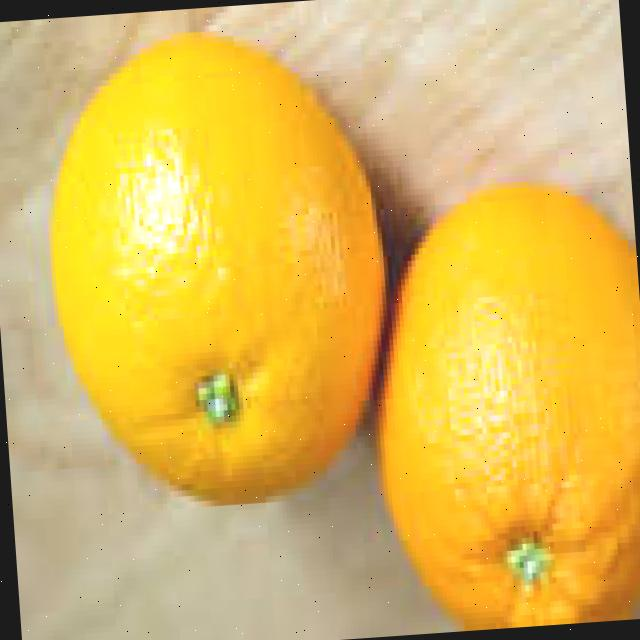Ripe: (33, 24, 406, 522), (365, 172, 640, 635)
